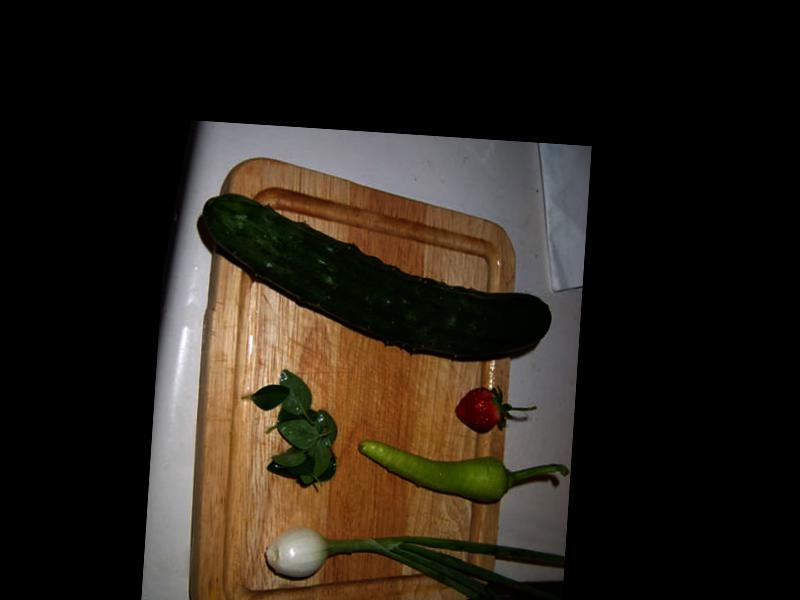Cucumber: (194, 192, 556, 362)
